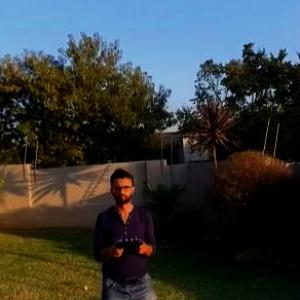follow: (90, 168, 160, 299)
